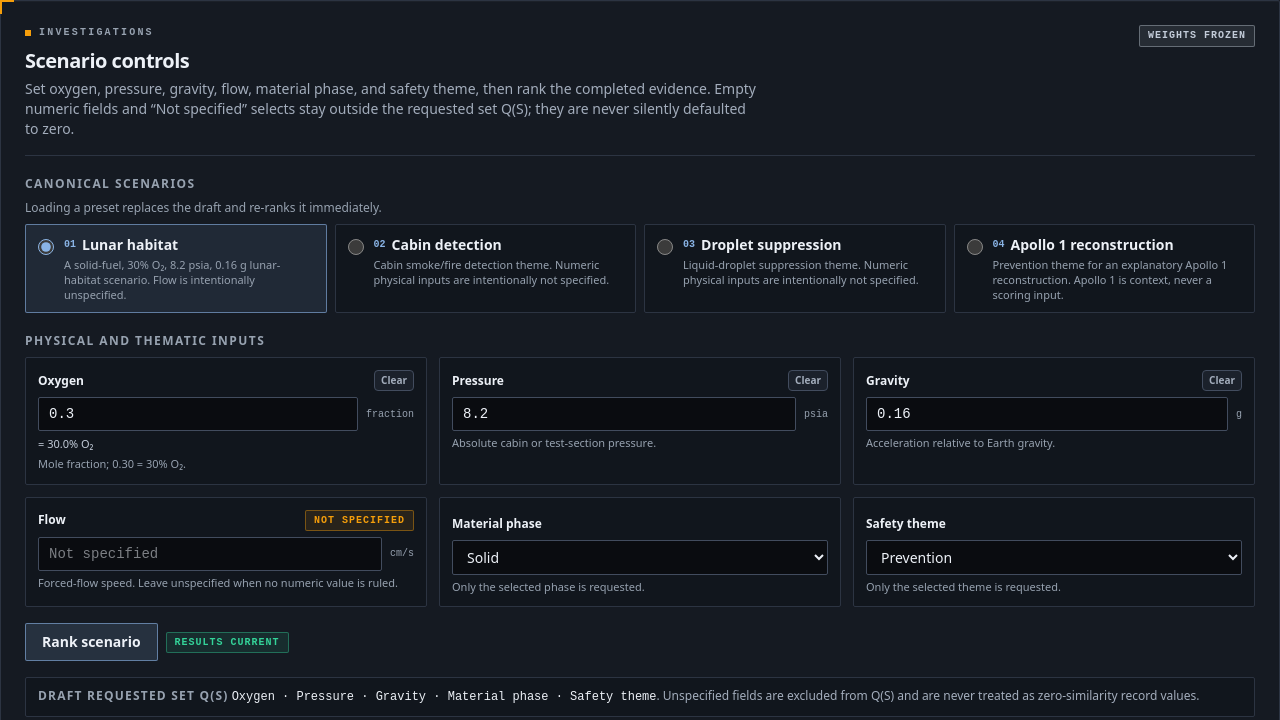
Test: Canonical scenario end-to-end flow › Scenario C: FLEX and FLEX-2 appear; PSI-117 is modeling-only context
The image size is (1280, 720).
Check: the radio button labelled "Lunar habitat" is shown, box [38,238,54,254]
Click the radio button labelled "Droplet suppression" at (665, 246), box [657,238,673,254]
(page scrolled)
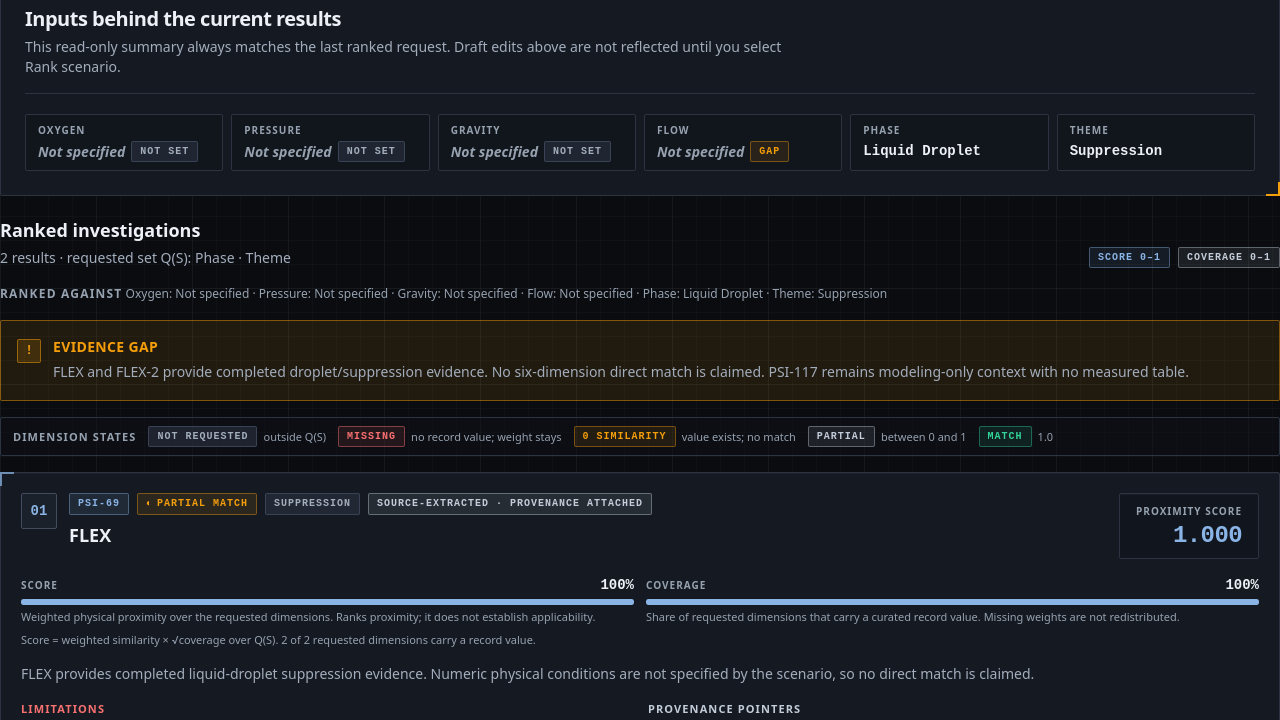
Check: the element "Evidence gap" shows "FLEX and FLEX-2 provide completed", box [53,362,1189,381]
Check: the element "Evidence gap" shows "PSI-117 remains modeling-only", box [53,362,1189,381]
